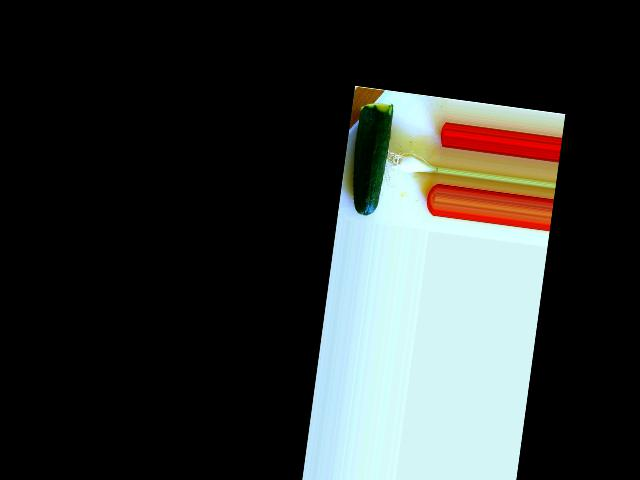cucumber: (345, 100, 393, 218)
